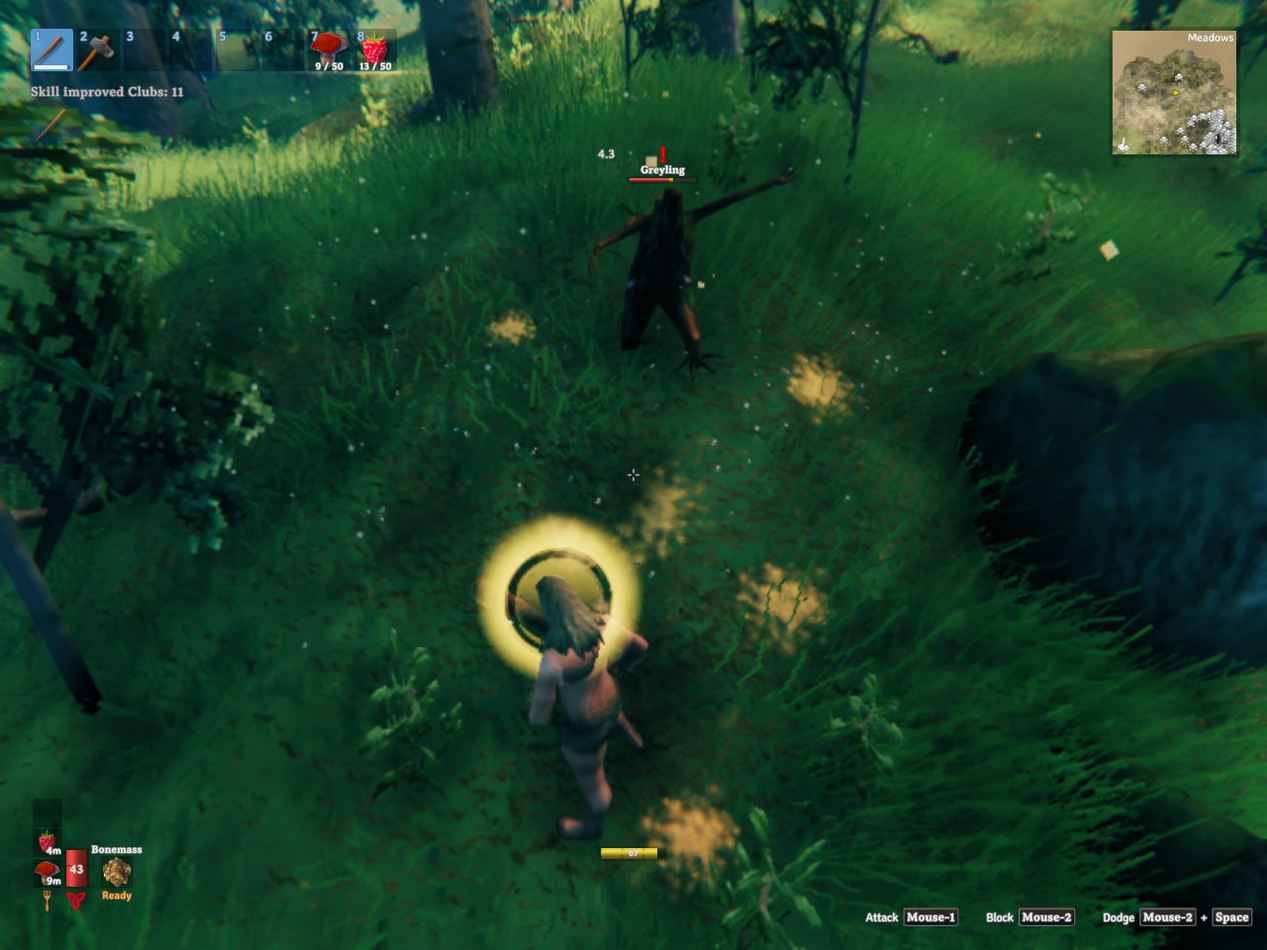Greyling: (591, 172, 790, 374)
